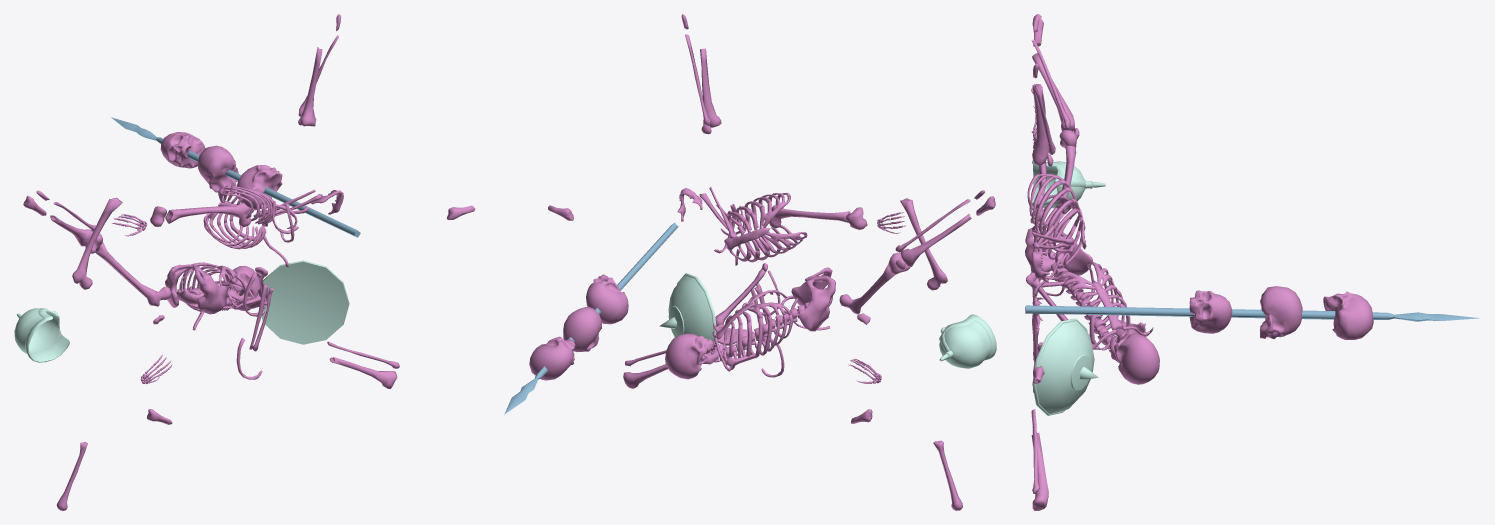
Rendered from Bone_007_1.FBX.
3 views of the same model, side by side, from view 1: azimuth 30°, elevation 25°; view 2: azimuth 150°, elevation 25°; view 3: azimuth 270°, elevation 25° (orthographic). The views are drawn at different scales.
Parts seen in each view (by area): view 1: Bone_007_1_LOD0; view 2: Bone_007_1_LOD0; view 3: Bone_007_1_LOD0.
Boxes of the visible parts, bbox=[...] form: Bone_007_1_LOD0: bbox=[14, 14, 475, 510]; Bone_007_1_LOD0: bbox=[504, 14, 996, 510]; Bone_007_1_LOD0: bbox=[1025, 14, 1479, 510].
Bounding box in the file's own units: 462 × 373 × 422.
